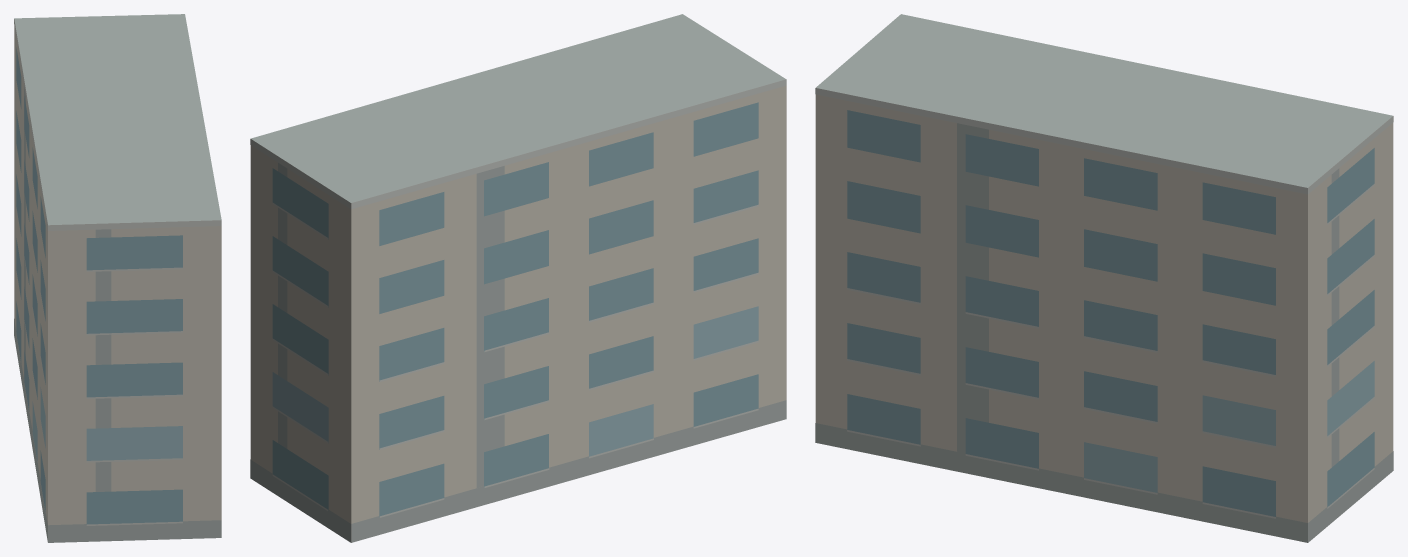
The model's file is survey-upis-32729586.glb.
The picture shows the model from 3 angles, left to right: view 1: azimuth 30°, elevation 25°; view 2: azimuth 150°, elevation 25°; view 3: azimuth 270°, elevation 25°; orthographic projection. The views are drawn at different scales.
Parts seen in each view (by area): view 1: survey-upis-32729586.tmp; view 2: survey-upis-32729586.tmp; view 3: survey-upis-32729586.tmp.
Boxes of the visible parts, left/top/right/bottom form: survey-upis-32729586.tmp: left=14, top=14, right=221, bottom=542; survey-upis-32729586.tmp: left=250, top=14, right=786, bottom=542; survey-upis-32729586.tmp: left=815, top=14, right=1393, bottom=542.
Bounding box in the file's own units: 13.99 × 13.3 × 19.64.
